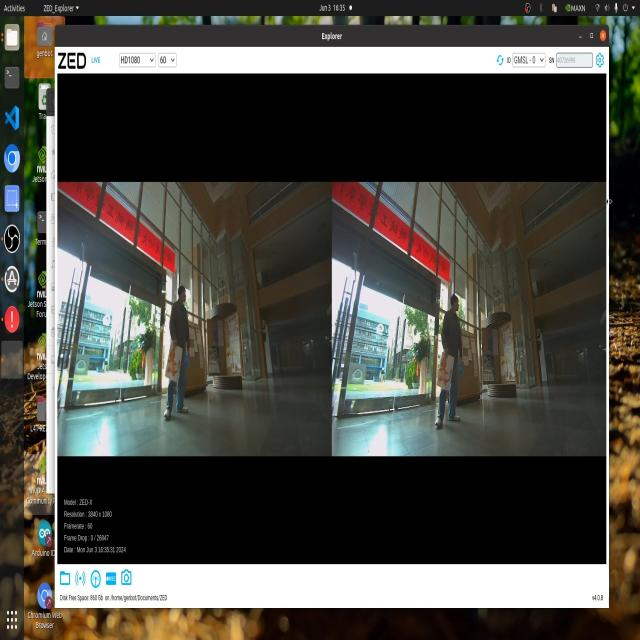red: (163, 346, 181, 388), (439, 351, 454, 393)
